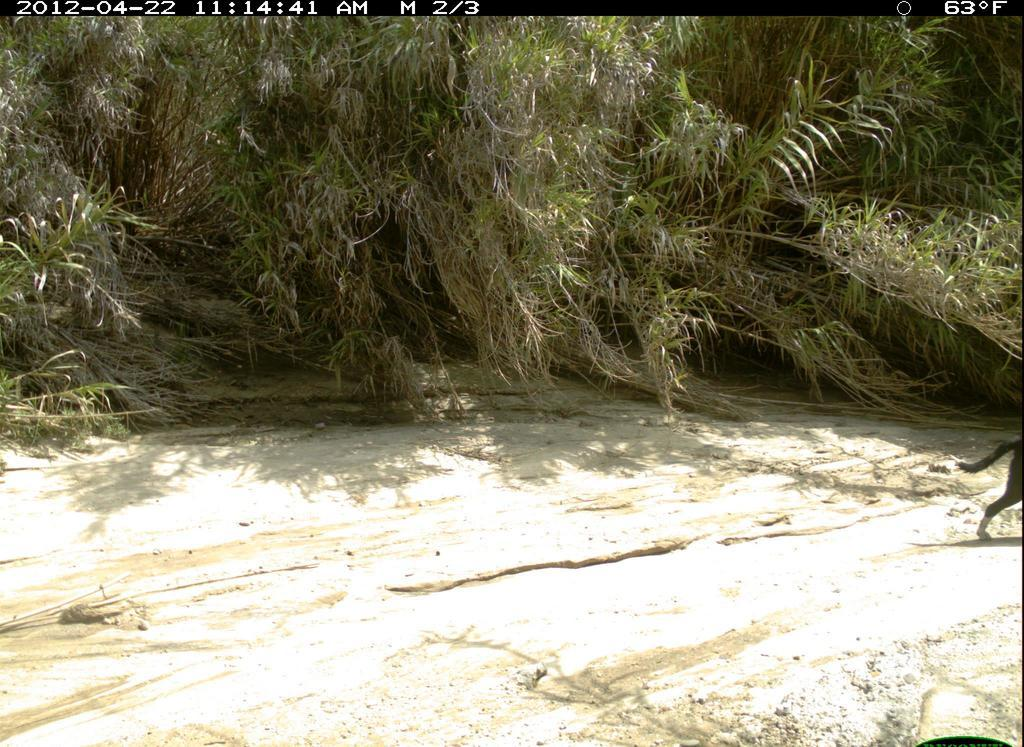dog: (949, 364, 1022, 562)
